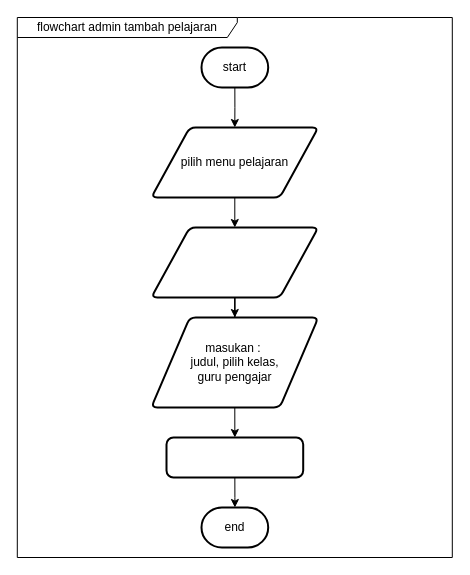
The diagram is 470 pixels wide and 575 high, and some of its shapes have lost their labels. Each missing label, with the centre of its shape:
"Insert data pelajaran" belongs at (x=234, y=457).
"pilih kelas" belongs at (x=234, y=262).
